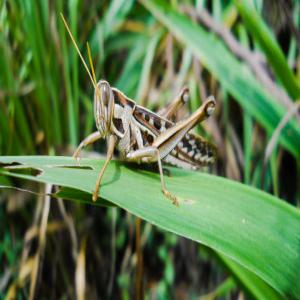locust: (76, 47, 214, 197)
